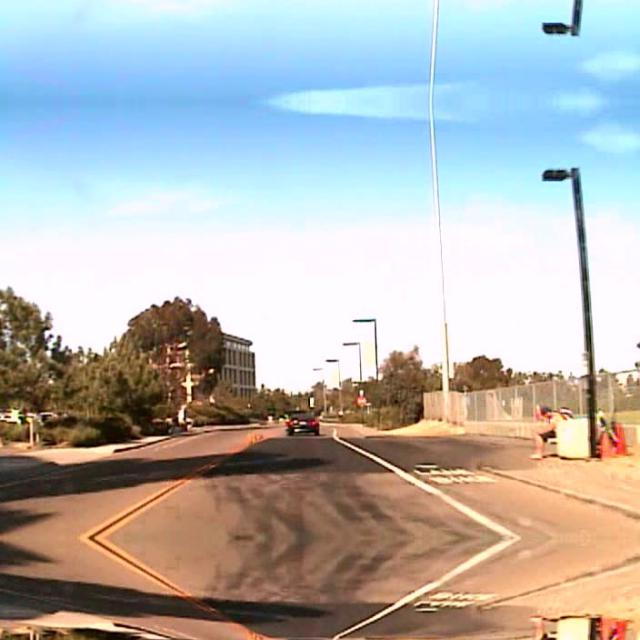stop: (356, 396, 366, 404)
